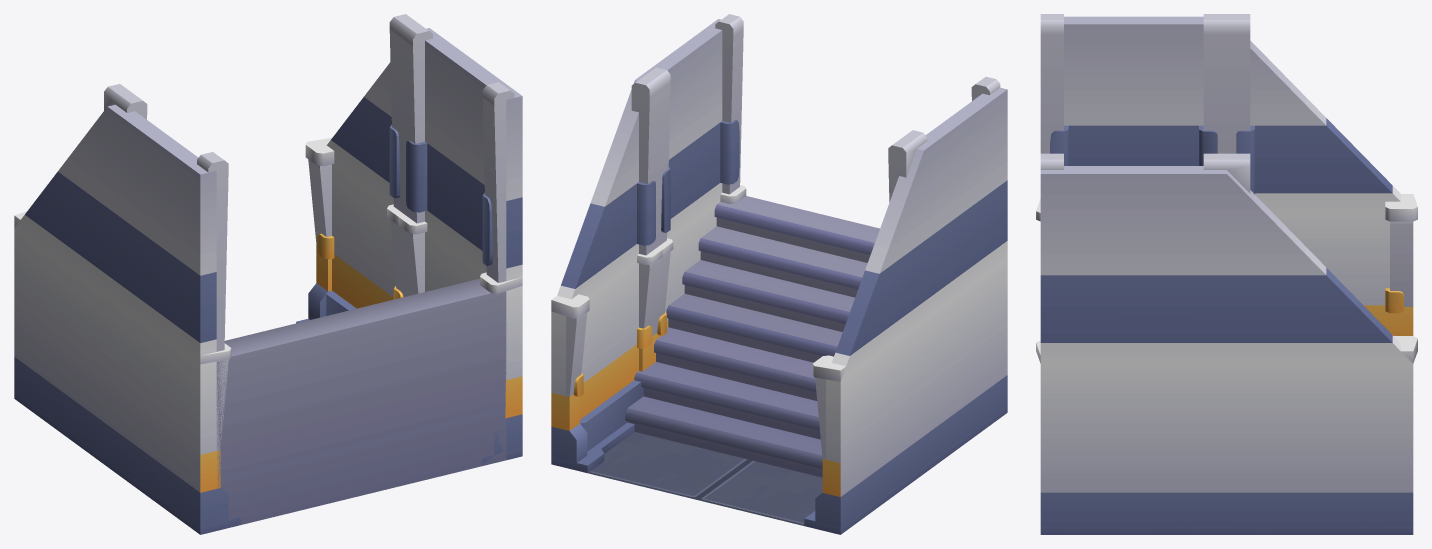
File: stairs-wide.glb
The picture shows the model from 3 angles, left to right: view 1: azimuth 30°, elevation 25°; view 2: azimuth 150°, elevation 25°; view 3: azimuth 270°, elevation 25°; orthographic projection. The views are drawn at different scales.
Parts seen in each view (by area): view 1: stairs-wide; view 2: stairs-wide; view 3: stairs-wide.
Part boxes in pixels (x1=…): stairs-wide: x1=14, y1=14, x2=522, y2=534; stairs-wide: x1=551, y1=14, x2=1007, y2=534; stairs-wide: x1=1036, y1=14, x2=1417, y2=534.
Size of the model in its own units: 8 by 8.75 by 8.2.
1 material, 1 textured.
